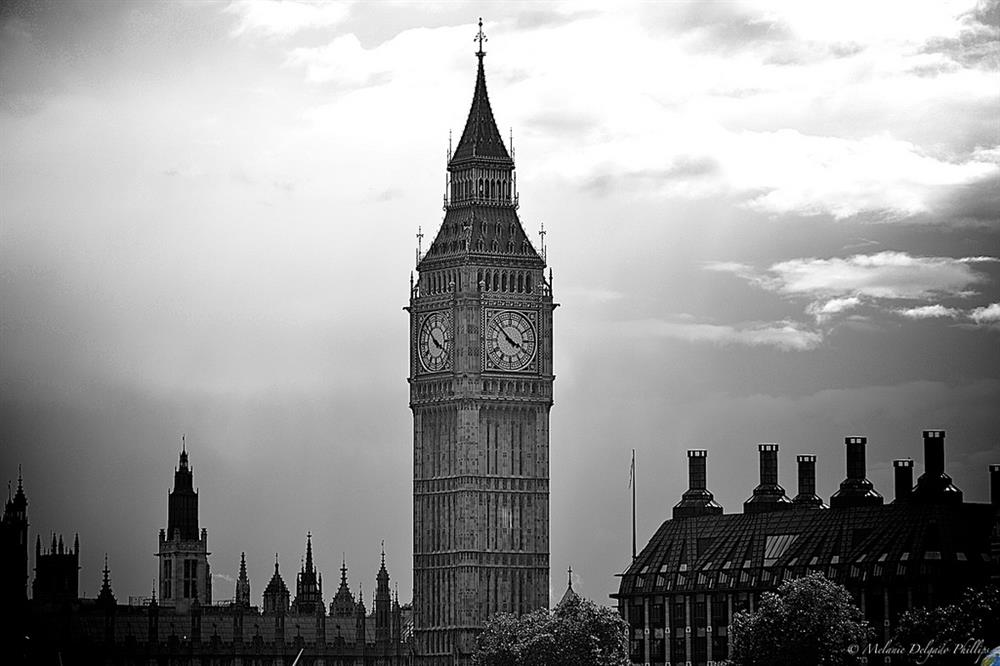Elizabeth_Tower: (403, 30, 552, 618)
